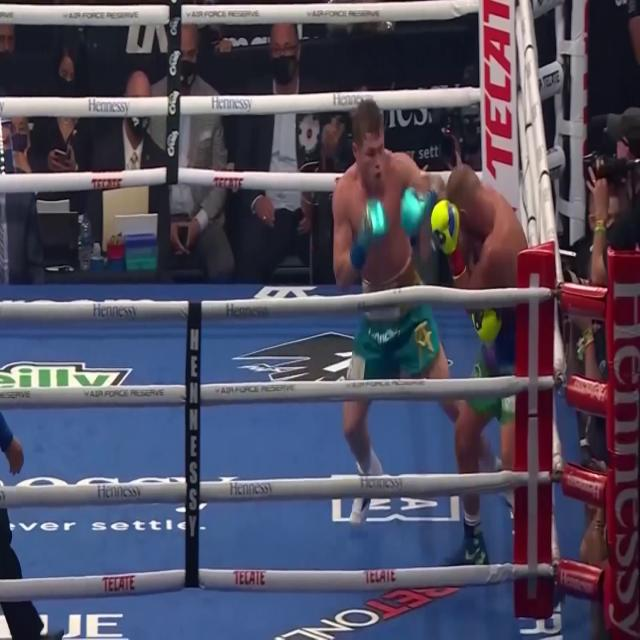boxer_1: (447, 165, 528, 314)
boxer_2: (342, 99, 412, 286)
gloves_1: (431, 199, 467, 279), (472, 308, 502, 345)
gloves_2: (350, 198, 389, 269), (401, 186, 437, 236)
